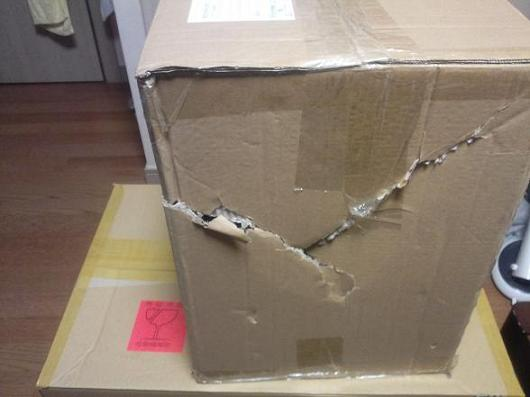damaged package: (305, 137, 481, 252), (168, 199, 350, 294)
